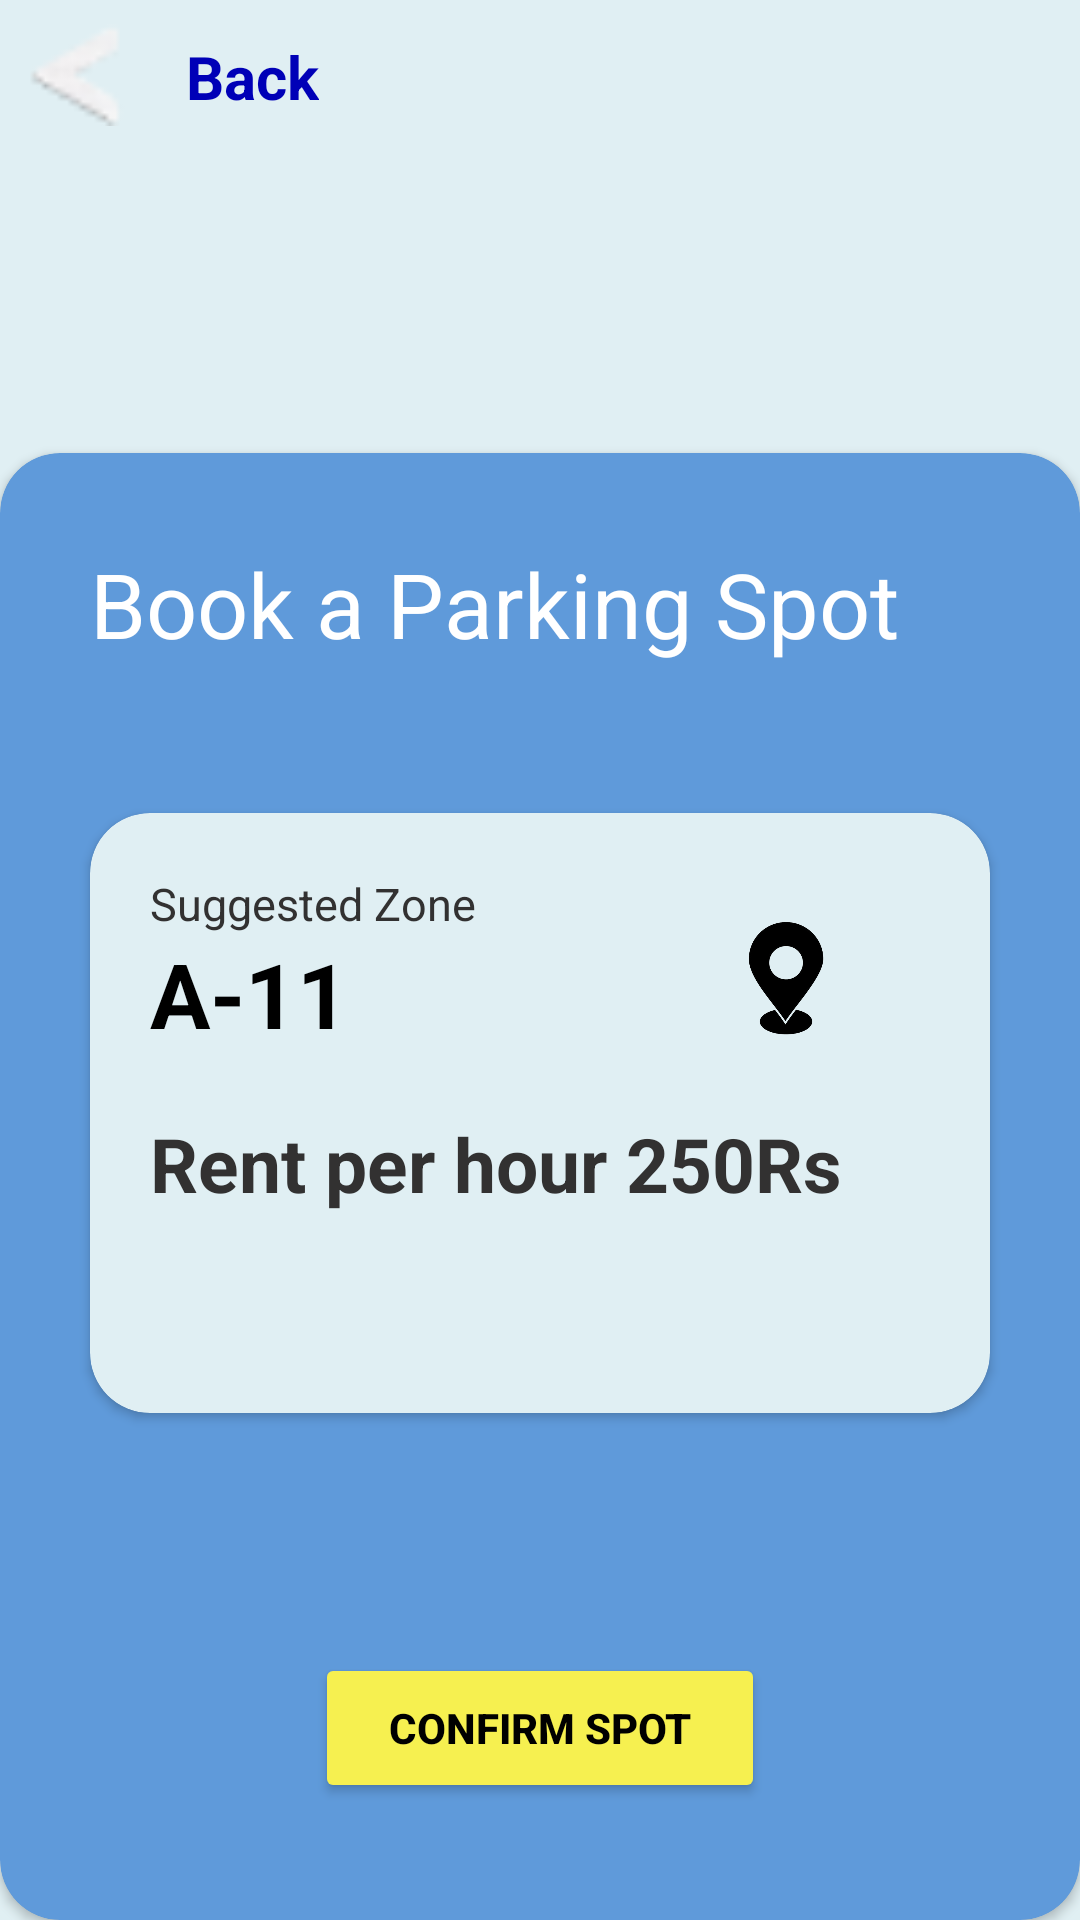

Locate icon controls on the screen. Image size 1080px x 1920px, boxes as BBox(x1, y1, x2, y2).
locationicon: BBox(749, 922, 824, 1035)
